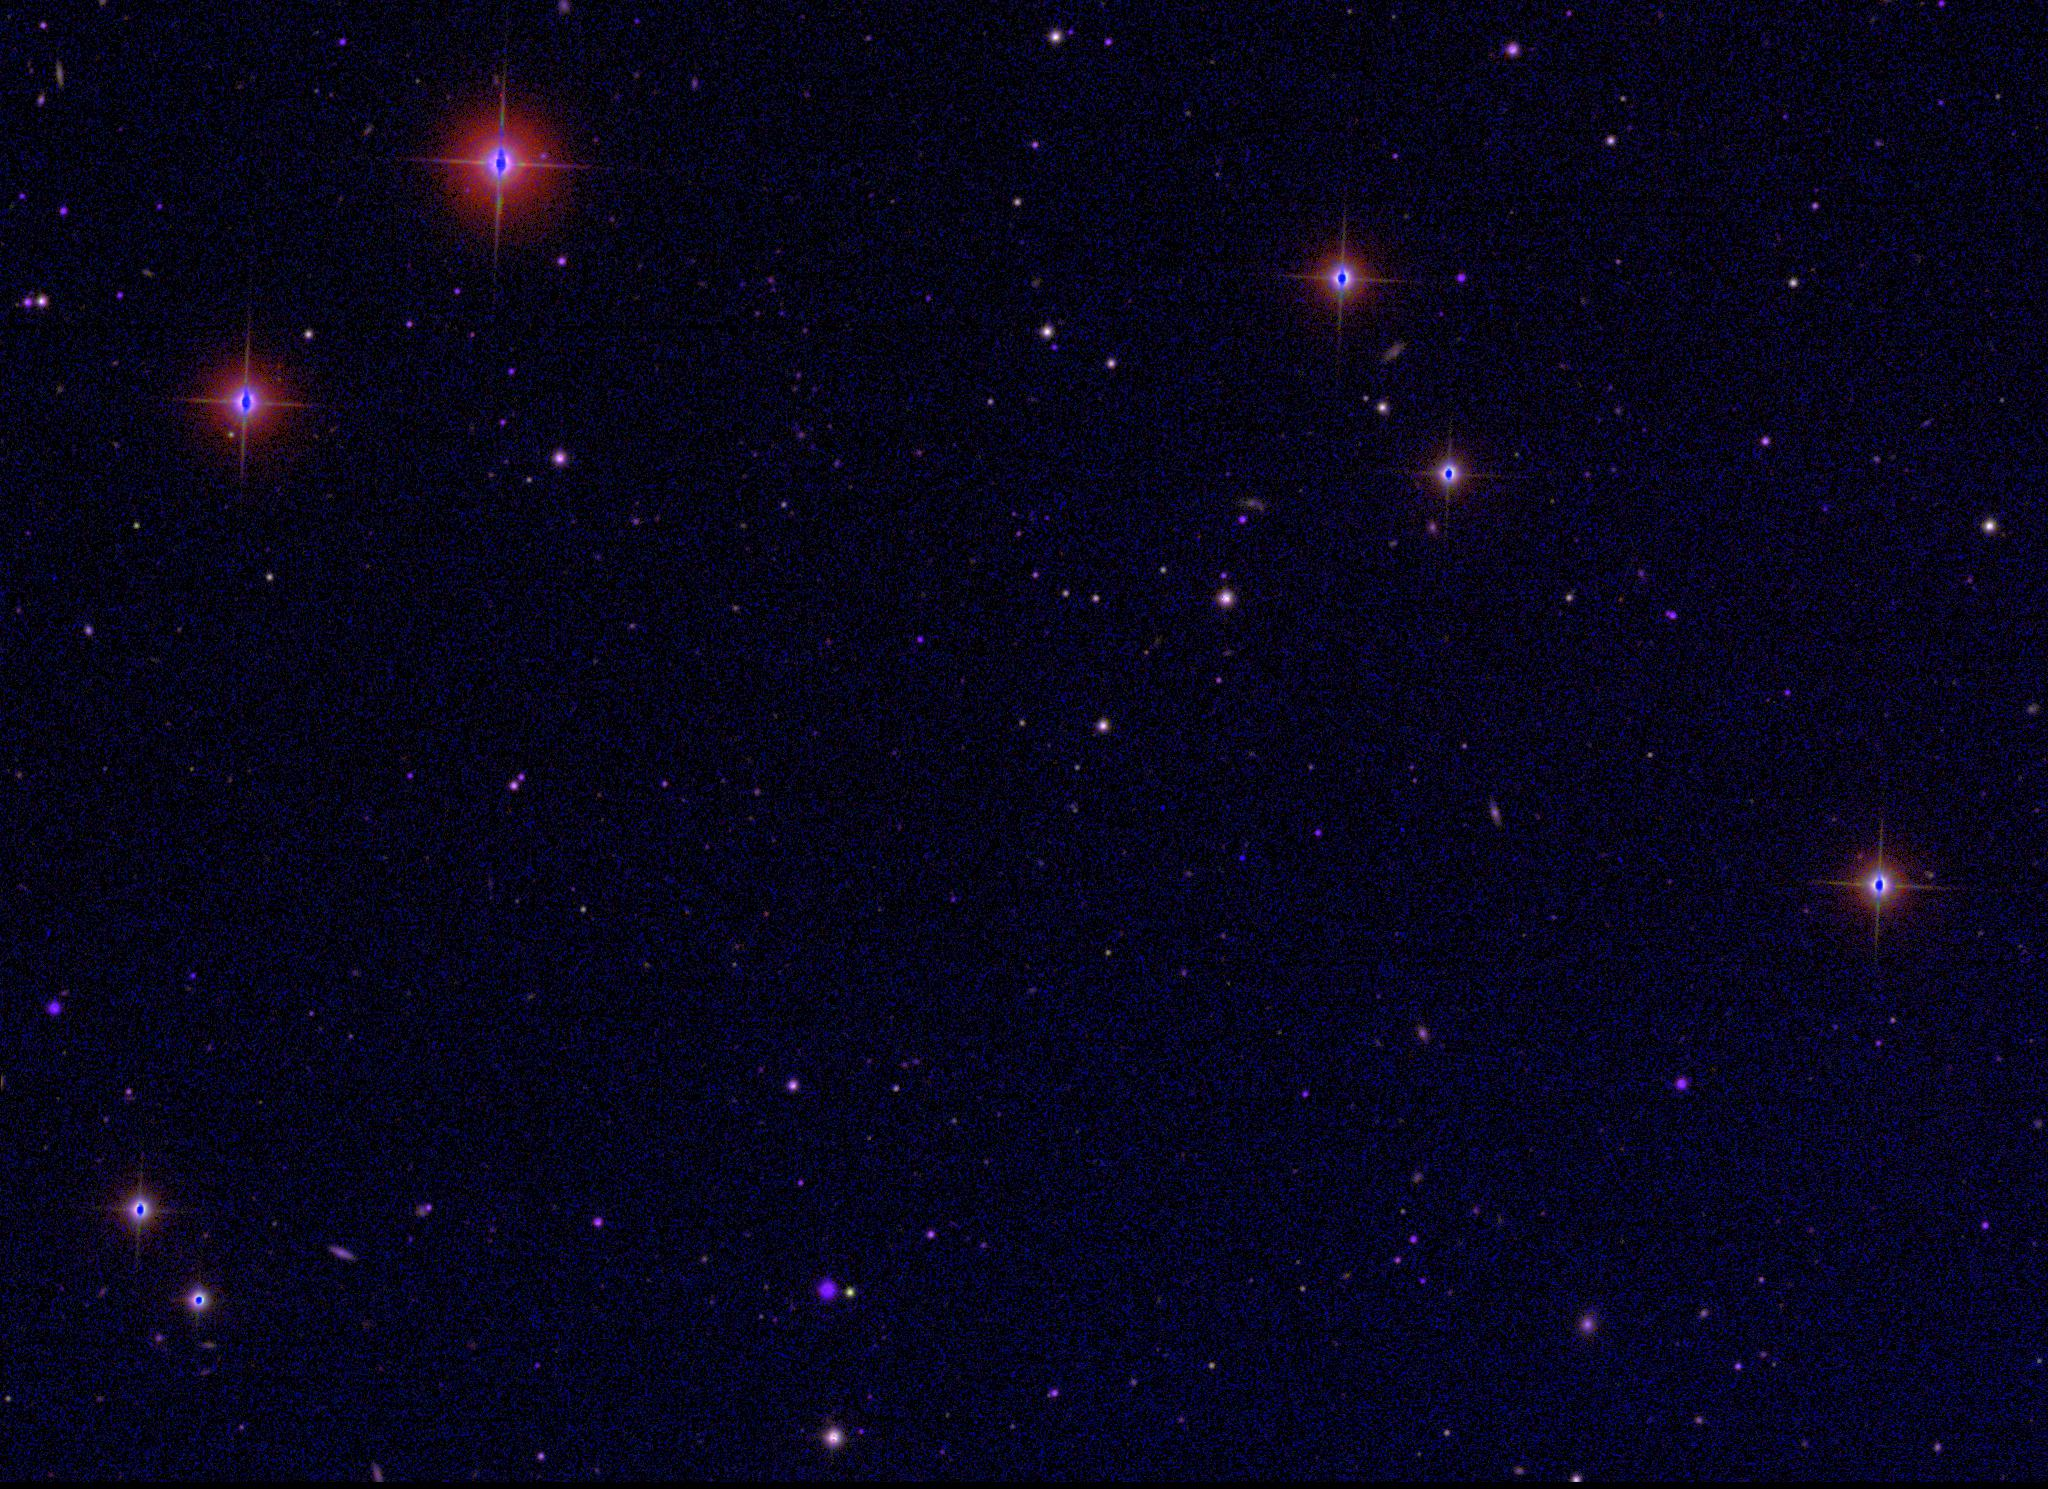L: (1235, 851, 1250, 865)
